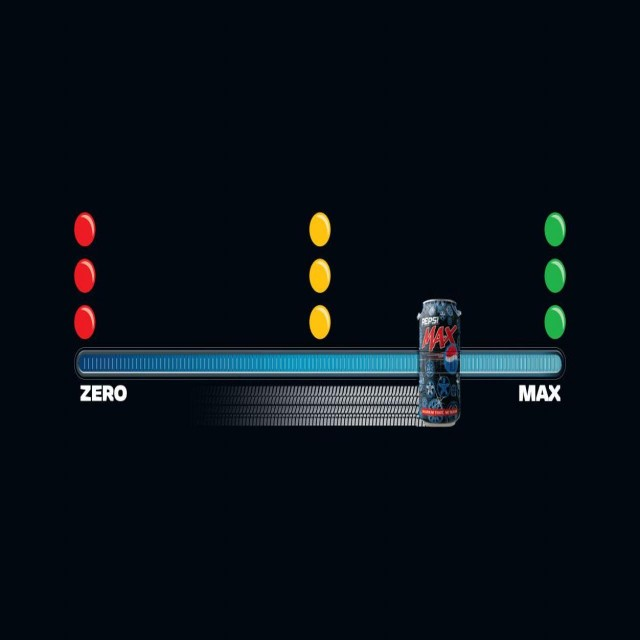pepsi: (447, 346, 460, 376)
